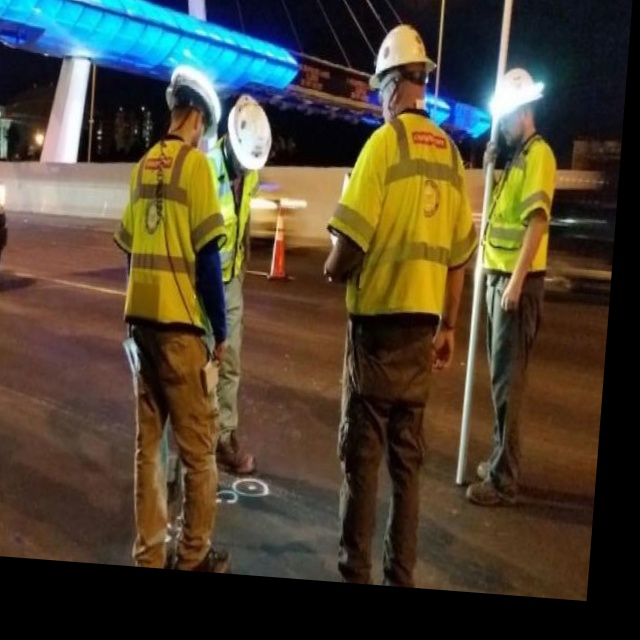Con_Casco: (368, 24, 439, 104), (225, 91, 274, 170)
Con_Chaleco: (360, 111, 460, 317), (124, 139, 219, 324), (482, 141, 556, 279)
